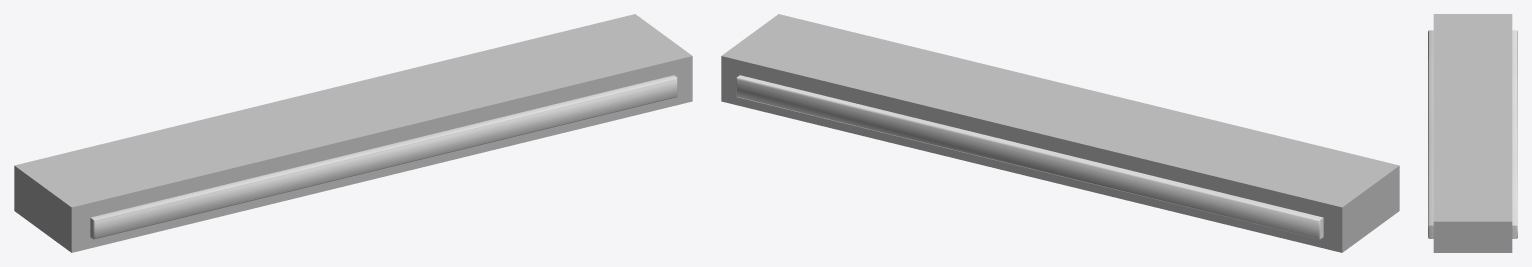
File: ornate_door_frame.obj
3 views of the same model, side by side, from view 1: azimuth 30°, elevation 25°; view 2: azimuth 150°, elevation 25°; view 3: azimuth 270°, elevation 25° (orthographic). The views are drawn at different scales.
Parts seen in each view (by area): view 1: rigid_shell_000, rigid_shell_001; view 2: rigid_shell_000, rigid_shell_002; view 3: rigid_shell_000, rigid_shell_001, rigid_shell_002.
Part boxes in pixels (box(x1,y1,x2,y2)): rigid_shell_000: box(14, 14, 692, 252); rigid_shell_001: box(90, 75, 677, 239); rigid_shell_000: box(721, 14, 1399, 252); rigid_shell_002: box(736, 75, 1323, 239); rigid_shell_000: box(1433, 14, 1512, 252); rigid_shell_001: box(1428, 30, 1433, 238); rigid_shell_002: box(1512, 30, 1517, 238).
Size of the model in its own units: 2 by 0.14 by 0.366.
